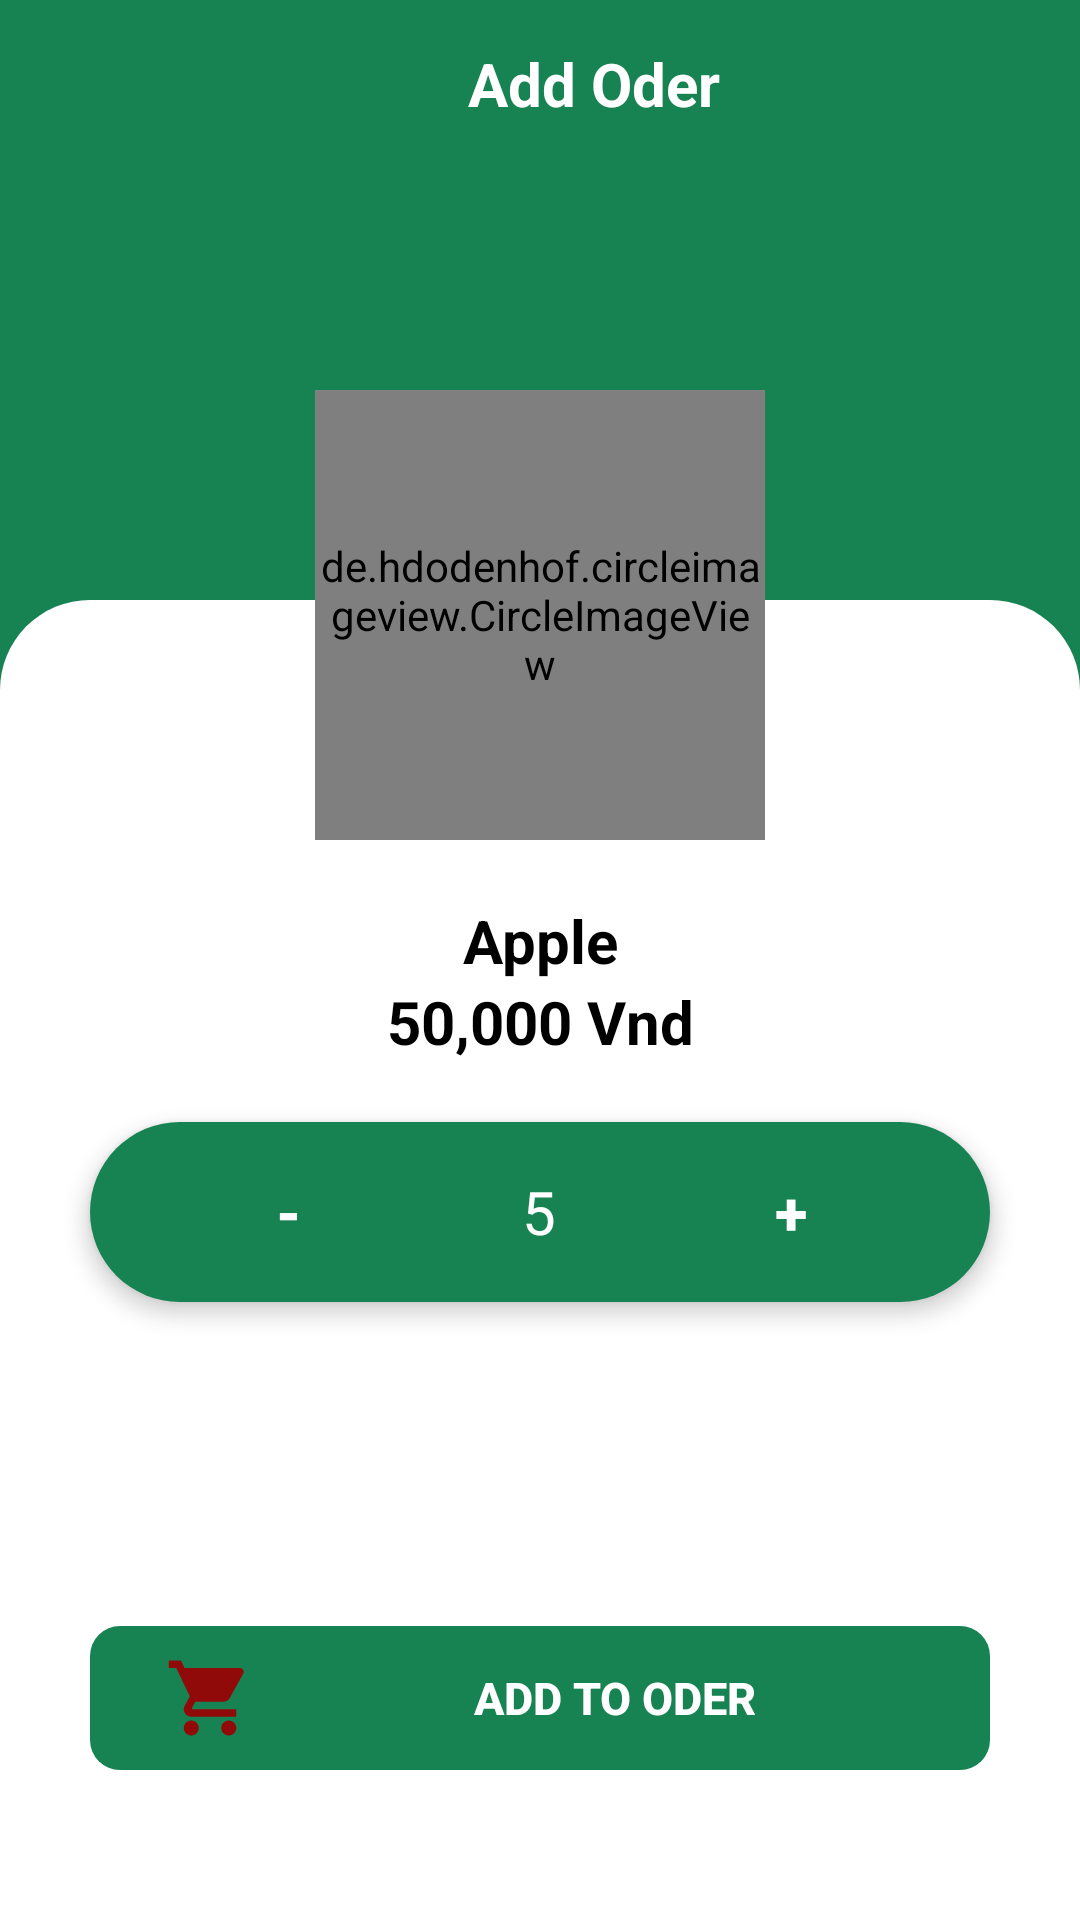

Locate icon controls on the screen. Image size 1080px x 1920px, boxes as (x1, y1, x2, y2).
shopping cart: (168, 1660, 244, 1736)
